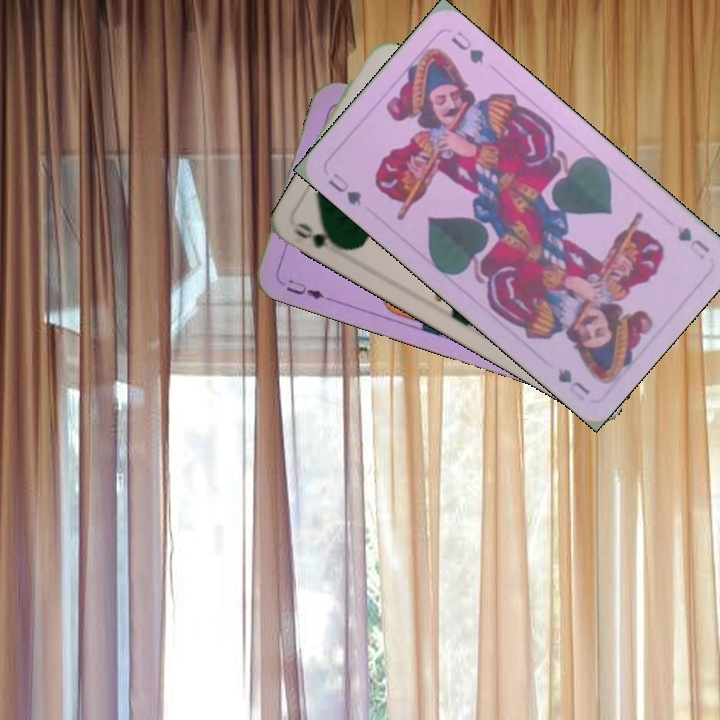EU: (282, 275, 334, 302)
GO: (291, 218, 350, 253)
GU: (673, 222, 713, 262), (323, 169, 364, 208)
